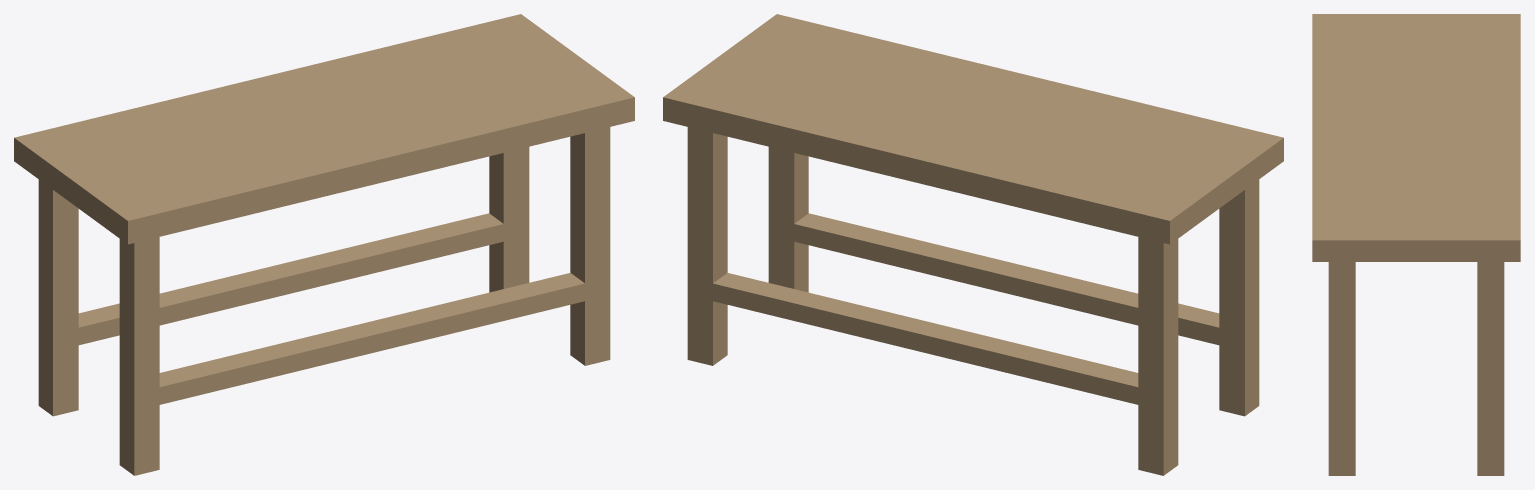
The model's file is prop.workbench.glb.
3 renders of one model, left to right at view 1: azimuth 30°, elevation 25°; view 2: azimuth 150°, elevation 25°; view 3: azimuth 270°, elevation 25°, orthographic. The views are drawn at different scales.
Parts seen in each view (by area): view 1: prop.workbench; view 2: prop.workbench; view 3: prop.workbench.
Boxes of the visible parts, left/top/right/bottom form: prop.workbench: left=14, top=14, right=634, bottom=475; prop.workbench: left=663, top=14, right=1283, bottom=475; prop.workbench: left=1312, top=14, right=1520, bottom=475.
Size of the model in its own units: 1.8 by 0.9 by 0.7.
